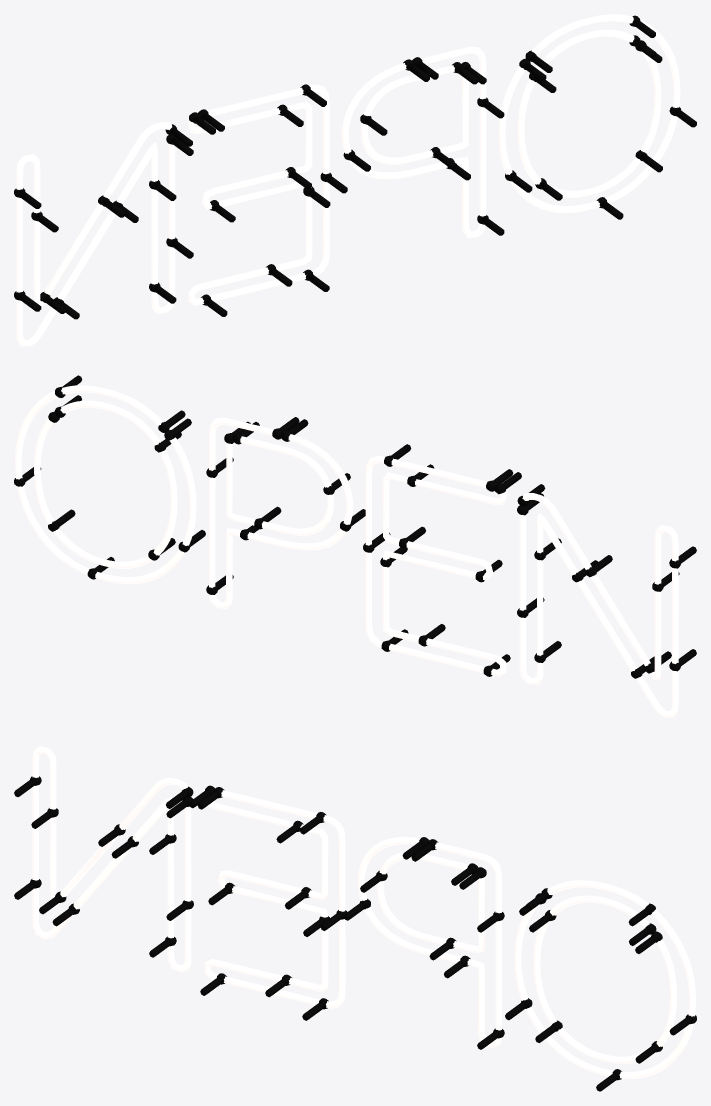
Rendered from neon_OPEN.fbx.
3 renders of one model, top to bottom at view 1: azimuth 30°, elevation 25°; view 2: azimuth 150°, elevation 25°; view 3: azimuth 330°, elevation 25°, orthographic.
Visible parts, largest first — view 1: NeonEnglish; view 2: NeonEnglish; view 3: NeonEnglish.
Boxes of the visible parts, left/top/right/bottom form: NeonEnglish: left=14, top=14, right=696, bottom=346; NeonEnglish: left=14, top=375, right=696, bottom=717; NeonEnglish: left=14, top=746, right=696, bottom=1091.
Bounding box in the file's own units: 389 × 109 × 21.29.
